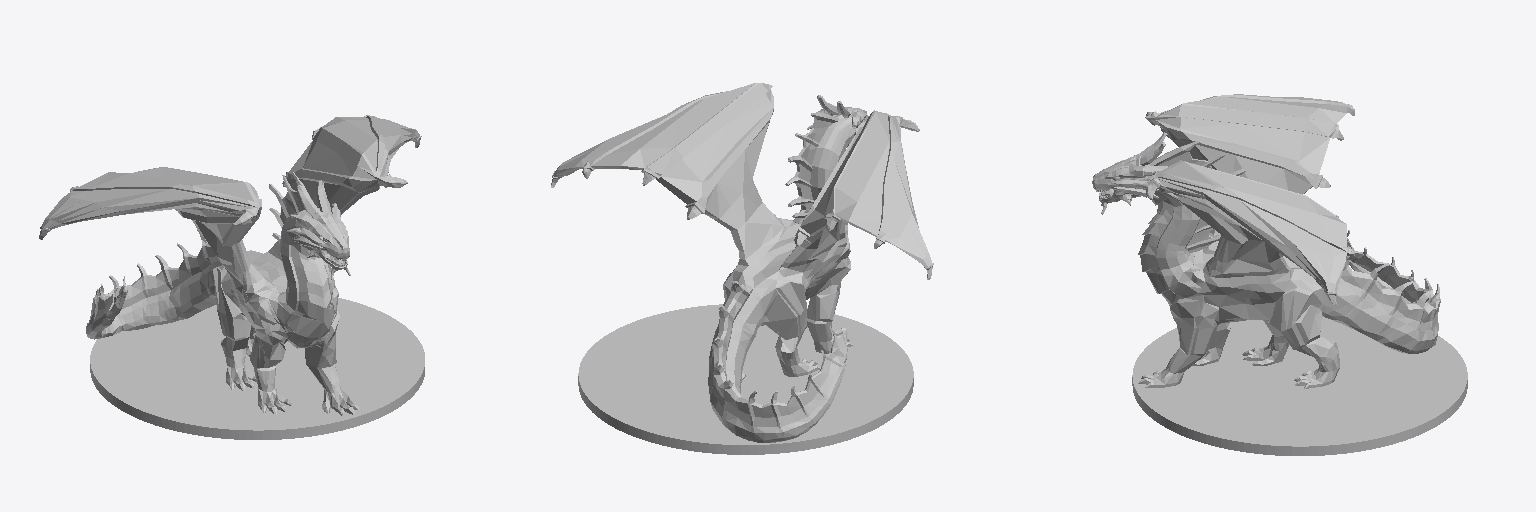
Rendered from dragon.obj.
3 views of the same model, side by side, from view 1: azimuth 30°, elevation 25°; view 2: azimuth 150°, elevation 25°; view 3: azimuth 270°, elevation 25° (orthographic).
Visible parts, largest first — view 1: Huge_Creature; view 2: Huge_Creature; view 3: Huge_Creature.
Part boxes in pixels (left/top/right/bottom): Huge_Creature: left=39, top=115, right=424, bottom=439; Huge_Creature: left=551, top=83, right=933, bottom=454; Huge_Creature: left=1092, top=94, right=1467, bottom=455.
Size of the model in its own units: 20.23 by 12.6 by 17.34.